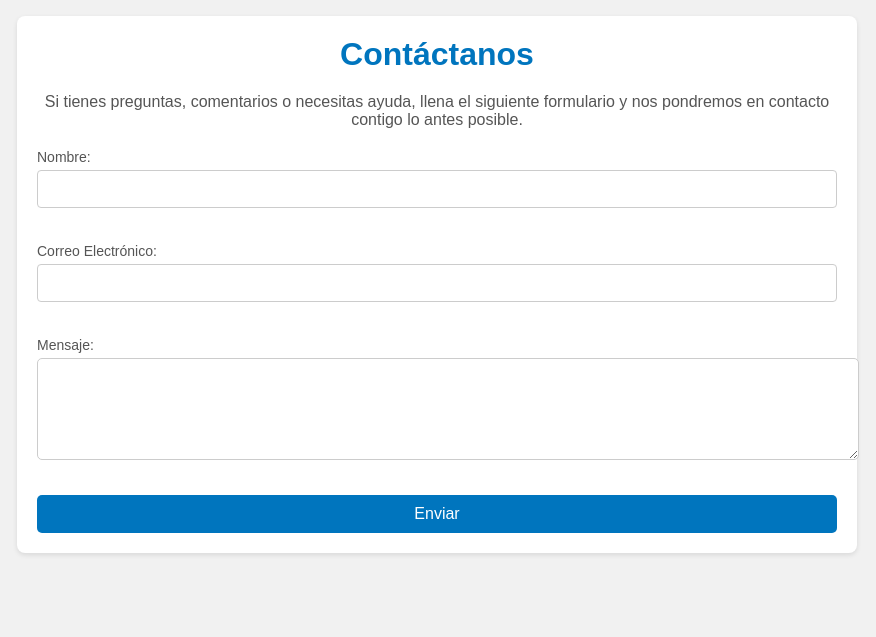
Scenario: Contacto Component › Resets error message when fields are updated
This screenshot has width=876, height=637.
Click the button "Enviar": x=437, y=514 [37,495,837,533]
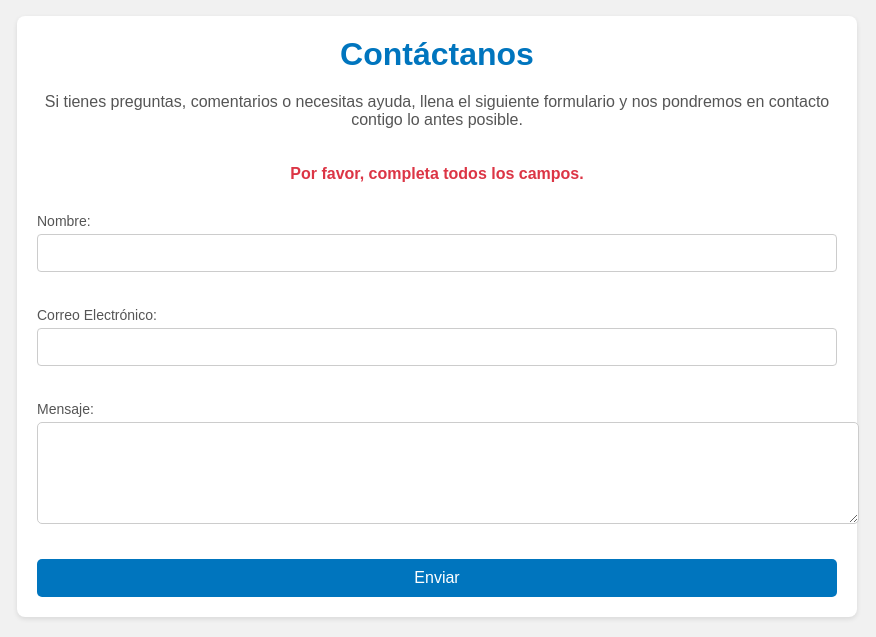
Result: the text "Por favor, completa todos los campos." is shown at [290,165,584,182]
In the field labelled "Nombre:": x=437, y=253 [37,234,837,272], type "John Doe"
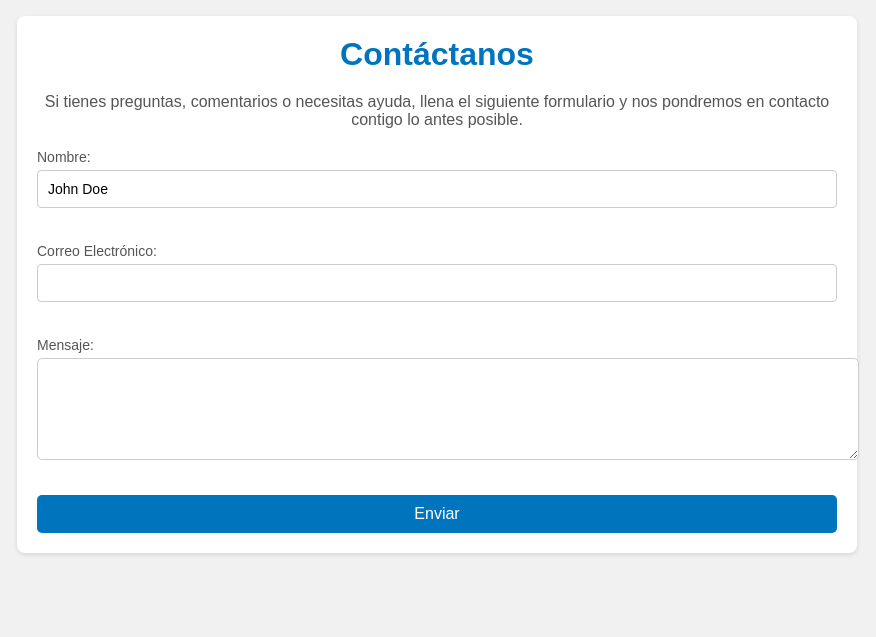
Result: the text "Por favor, completa todos los campos" is gone
